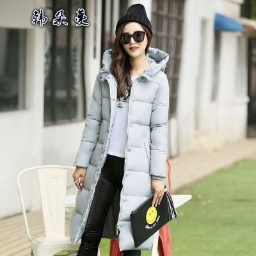face: (113, 19, 153, 59)
